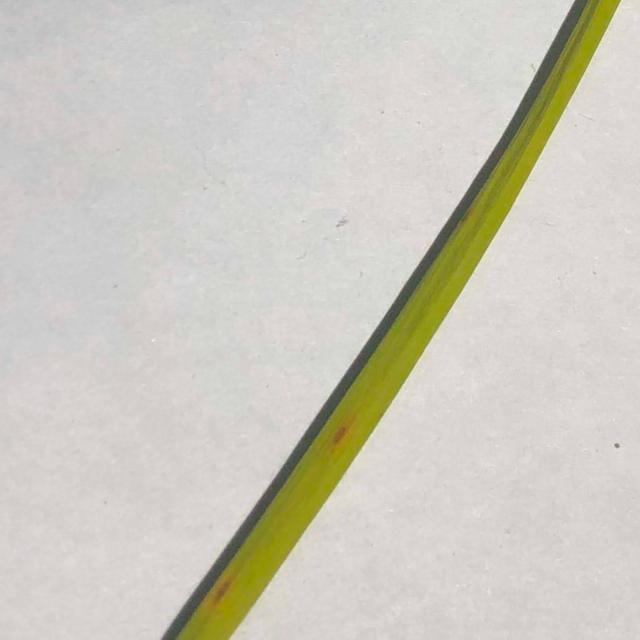brownspots: (192, 568, 242, 623), (317, 418, 364, 448)
